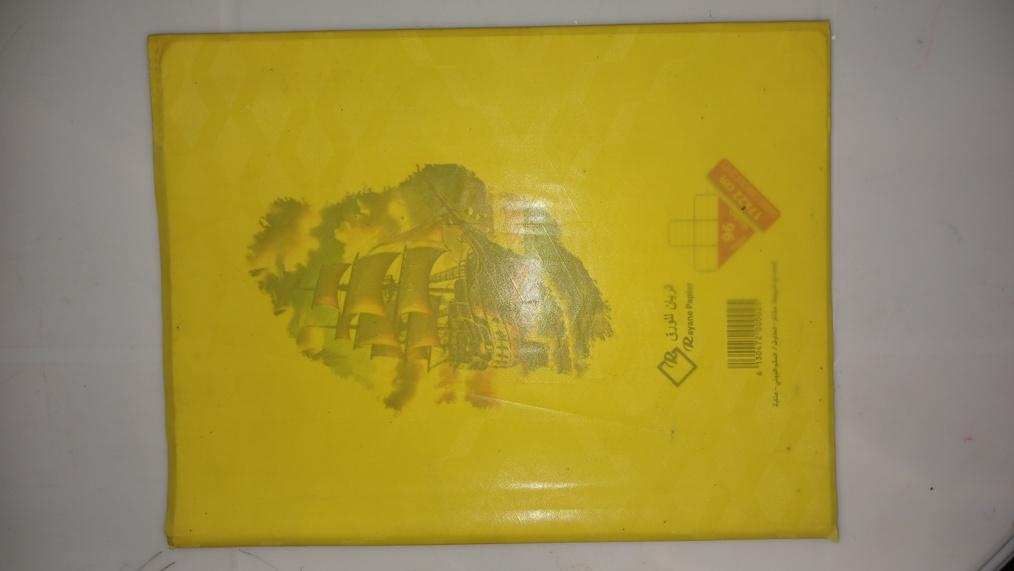notebook: (154, 22, 833, 550)
